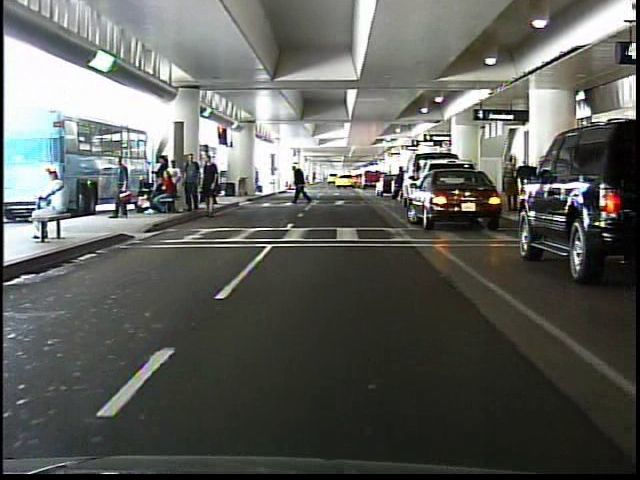person: (30, 164, 72, 244), (108, 150, 138, 224), (498, 151, 521, 212), (289, 162, 314, 208)
